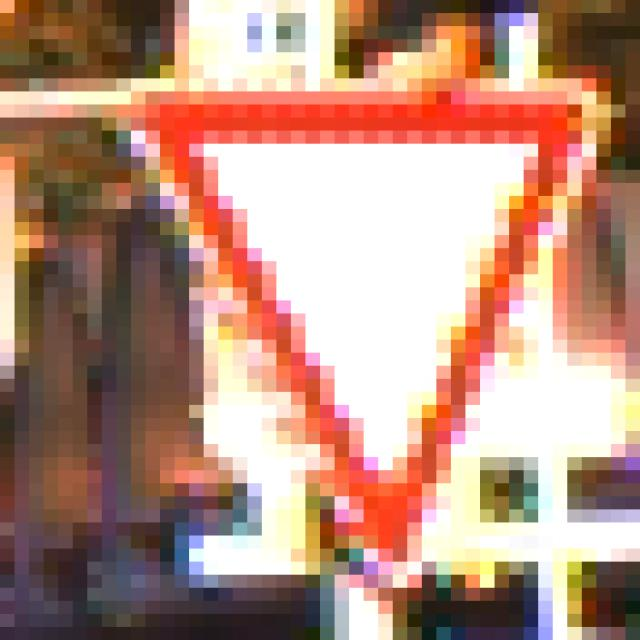Give Way: (89, 79, 569, 576)
